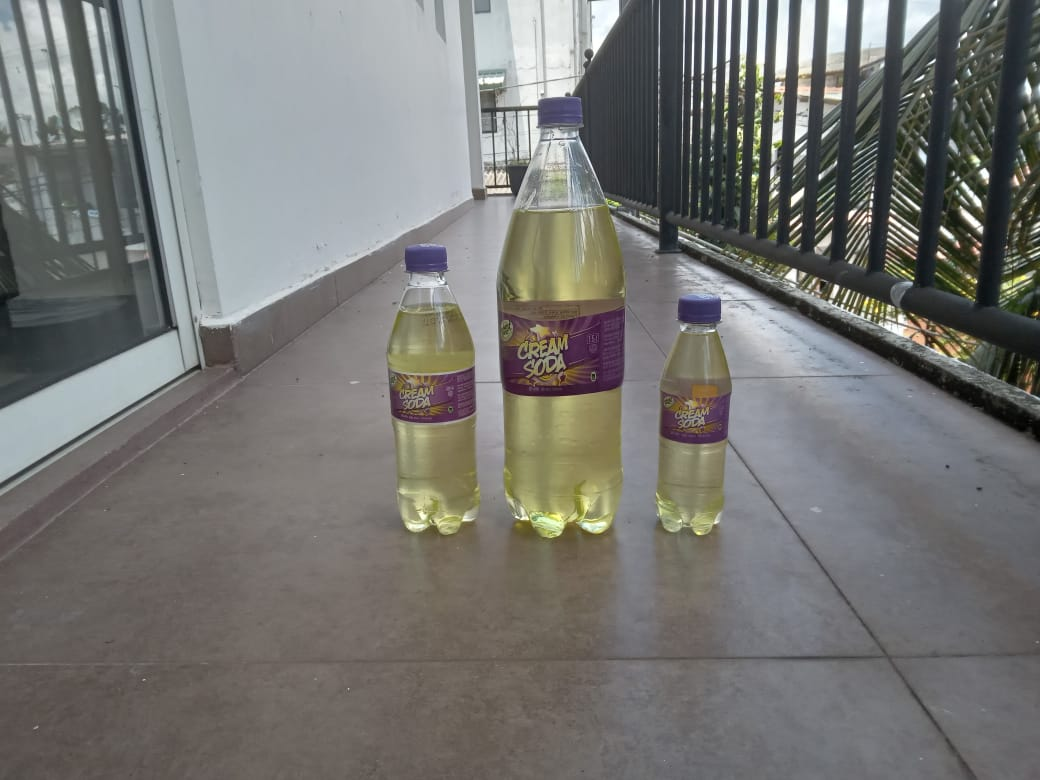L: (497, 94, 625, 541)
S: (385, 244, 481, 536)
Xs: (652, 297, 734, 536)
